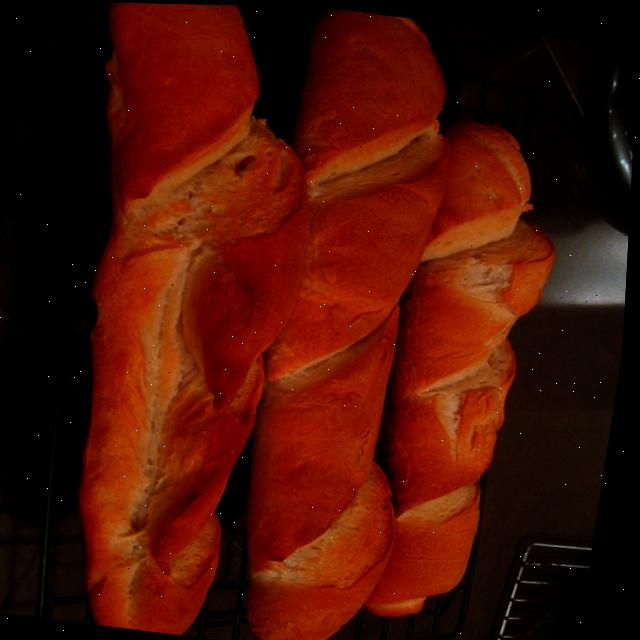面包点心: (0, 0, 629, 640)
